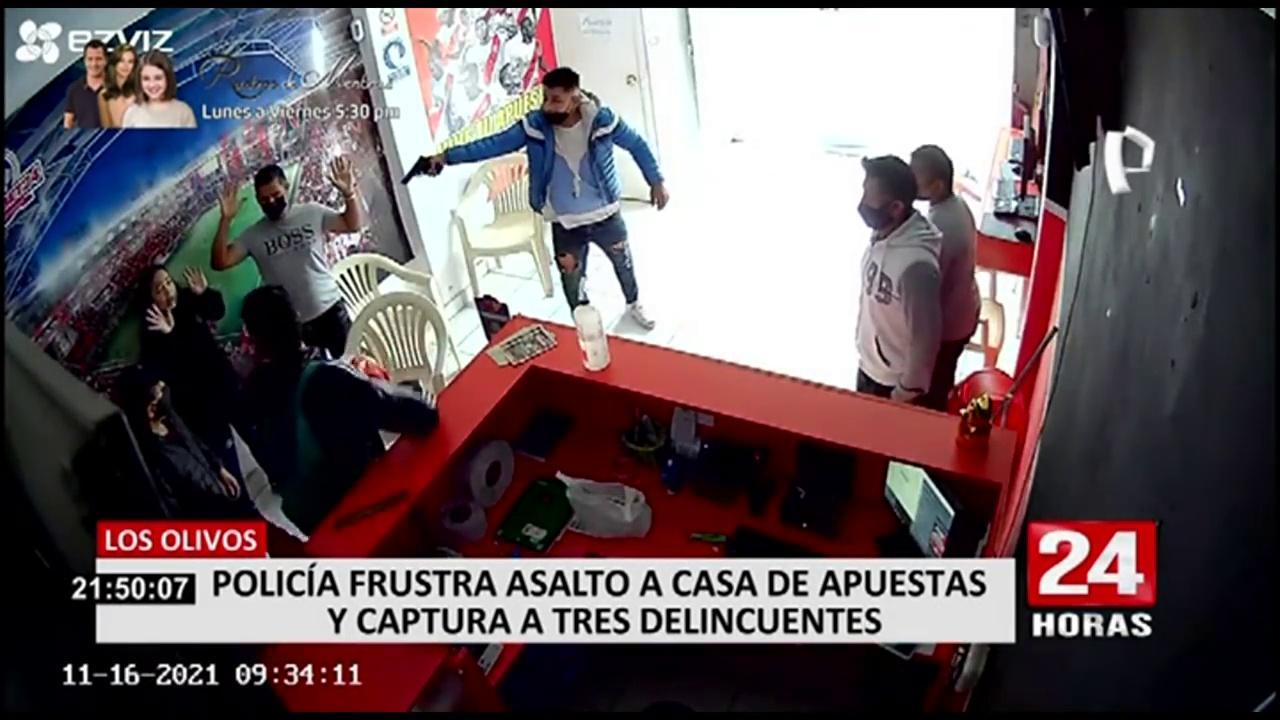Guns: (395, 143, 455, 191)
